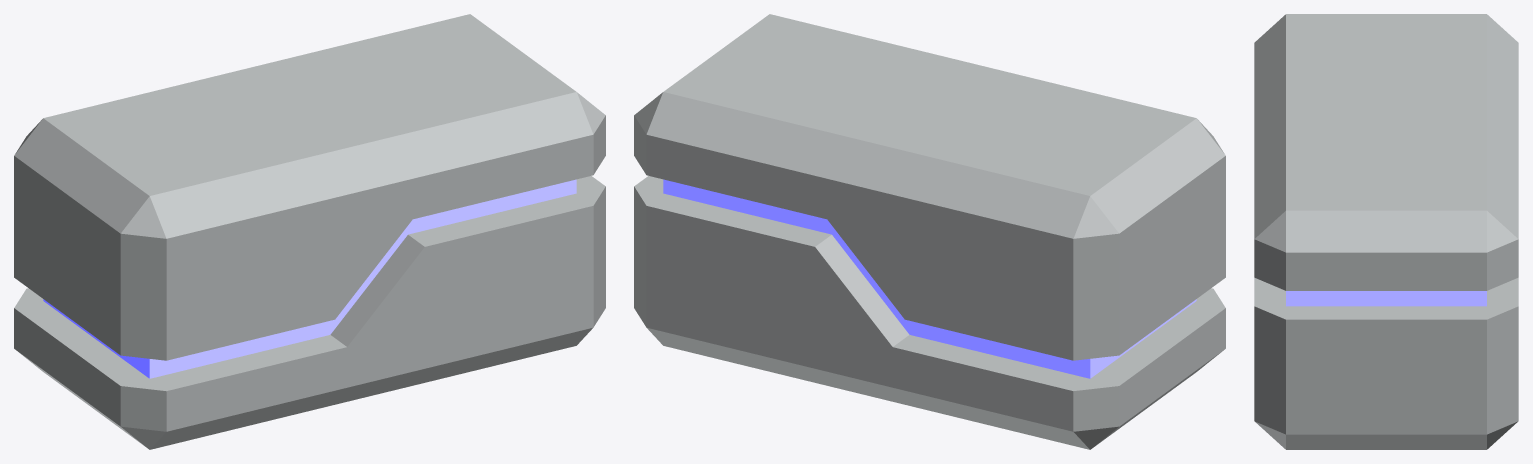
File: block.glb
The picture shows the model from 3 angles, left to right: view 1: azimuth 30°, elevation 25°; view 2: azimuth 150°, elevation 25°; view 3: azimuth 270°, elevation 25°; orthographic projection. The views are drawn at different scales.
Visible parts, largest first — view 1: Block v1; view 2: Block v1; view 3: Block v1.
Part boxes in pixels (x1,y1,x2,y2): Block v1: (14, 14, 605, 449); Block v1: (634, 14, 1225, 449); Block v1: (1254, 14, 1518, 449).
Size of the model in its own units: 2.5 by 1.25 by 1.25.
2 materials, 1 textured.
